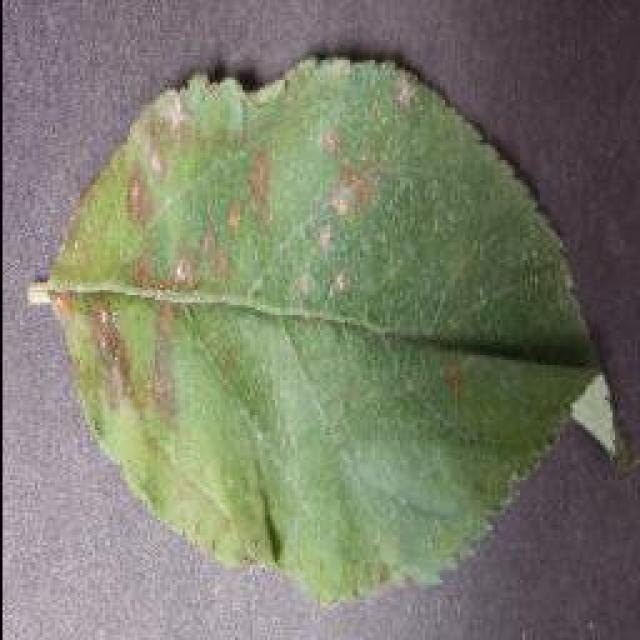apple rust disease: (35, 53, 607, 605)
